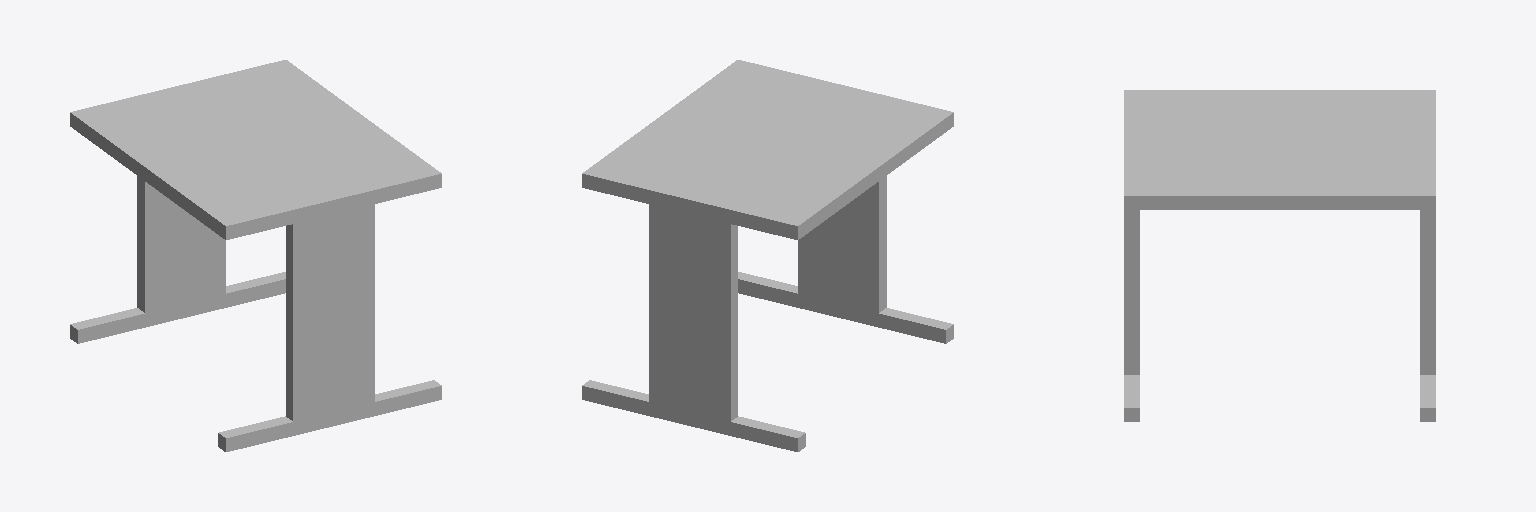
The model's file is desk.obj.
The picture shows the model from 3 angles: view 1: azimuth 30°, elevation 25°; view 2: azimuth 150°, elevation 25°; view 3: azimuth 270°, elevation 25°; orthographic projection.
Bounding box in the file's own units: 16 × 16 × 20.